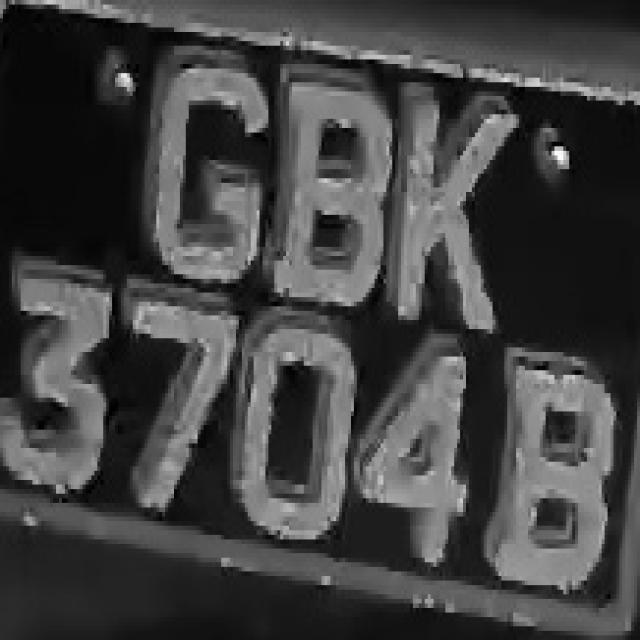0: (230, 311, 354, 562)
3: (3, 233, 118, 526)
4: (342, 329, 481, 576)
7: (115, 265, 242, 530)
B: (481, 352, 625, 603), (272, 41, 392, 316)
G: (138, 36, 268, 302)
K: (389, 69, 519, 338)
